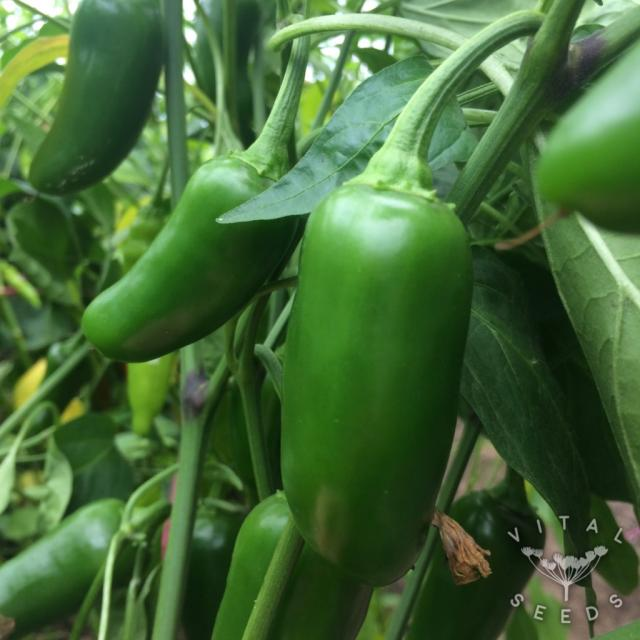aji: (312, 183, 450, 575), (100, 159, 308, 333)
